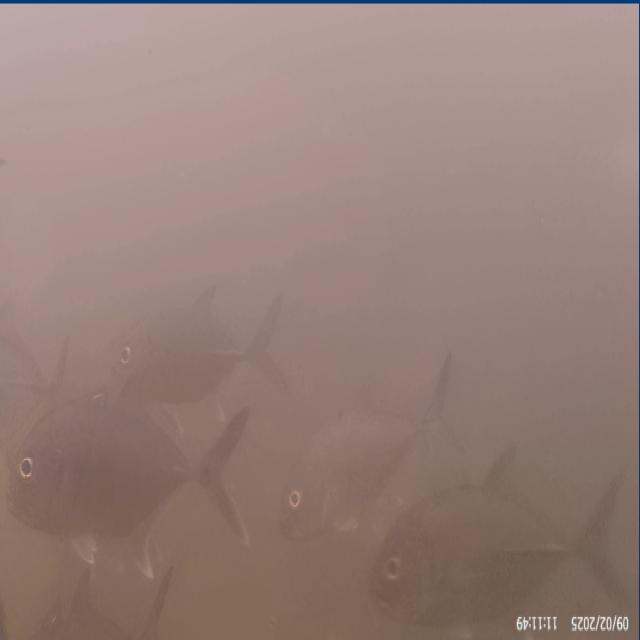ikan: (4, 386, 251, 570), (277, 348, 460, 544), (367, 439, 570, 613), (113, 281, 288, 411)
